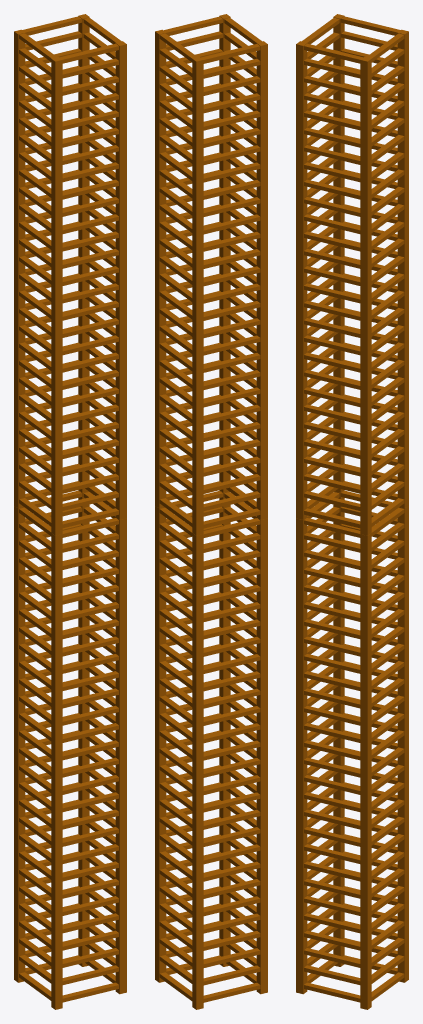
Rendered from Crane_Under_Part.fbx.
3 views of the same model, side by side, from view 1: azimuth 30°, elevation 25°; view 2: azimuth 210°, elevation 25°; view 3: azimuth 330°, elevation 25° (orthographic).
Parts seen in each view (by area): view 1: Kran_Under_Del; view 2: Kran_Under_Del; view 3: Kran_Under_Del.
Boxes of the visible parts, x1,y1,x2,y2 form: Kran_Under_Del: (14, 14, 126, 1009); Kran_Under_Del: (155, 14, 267, 1009); Kran_Under_Del: (296, 14, 408, 1009).
Size of the model in its own units: 12.49 by 158 by 12.49.
